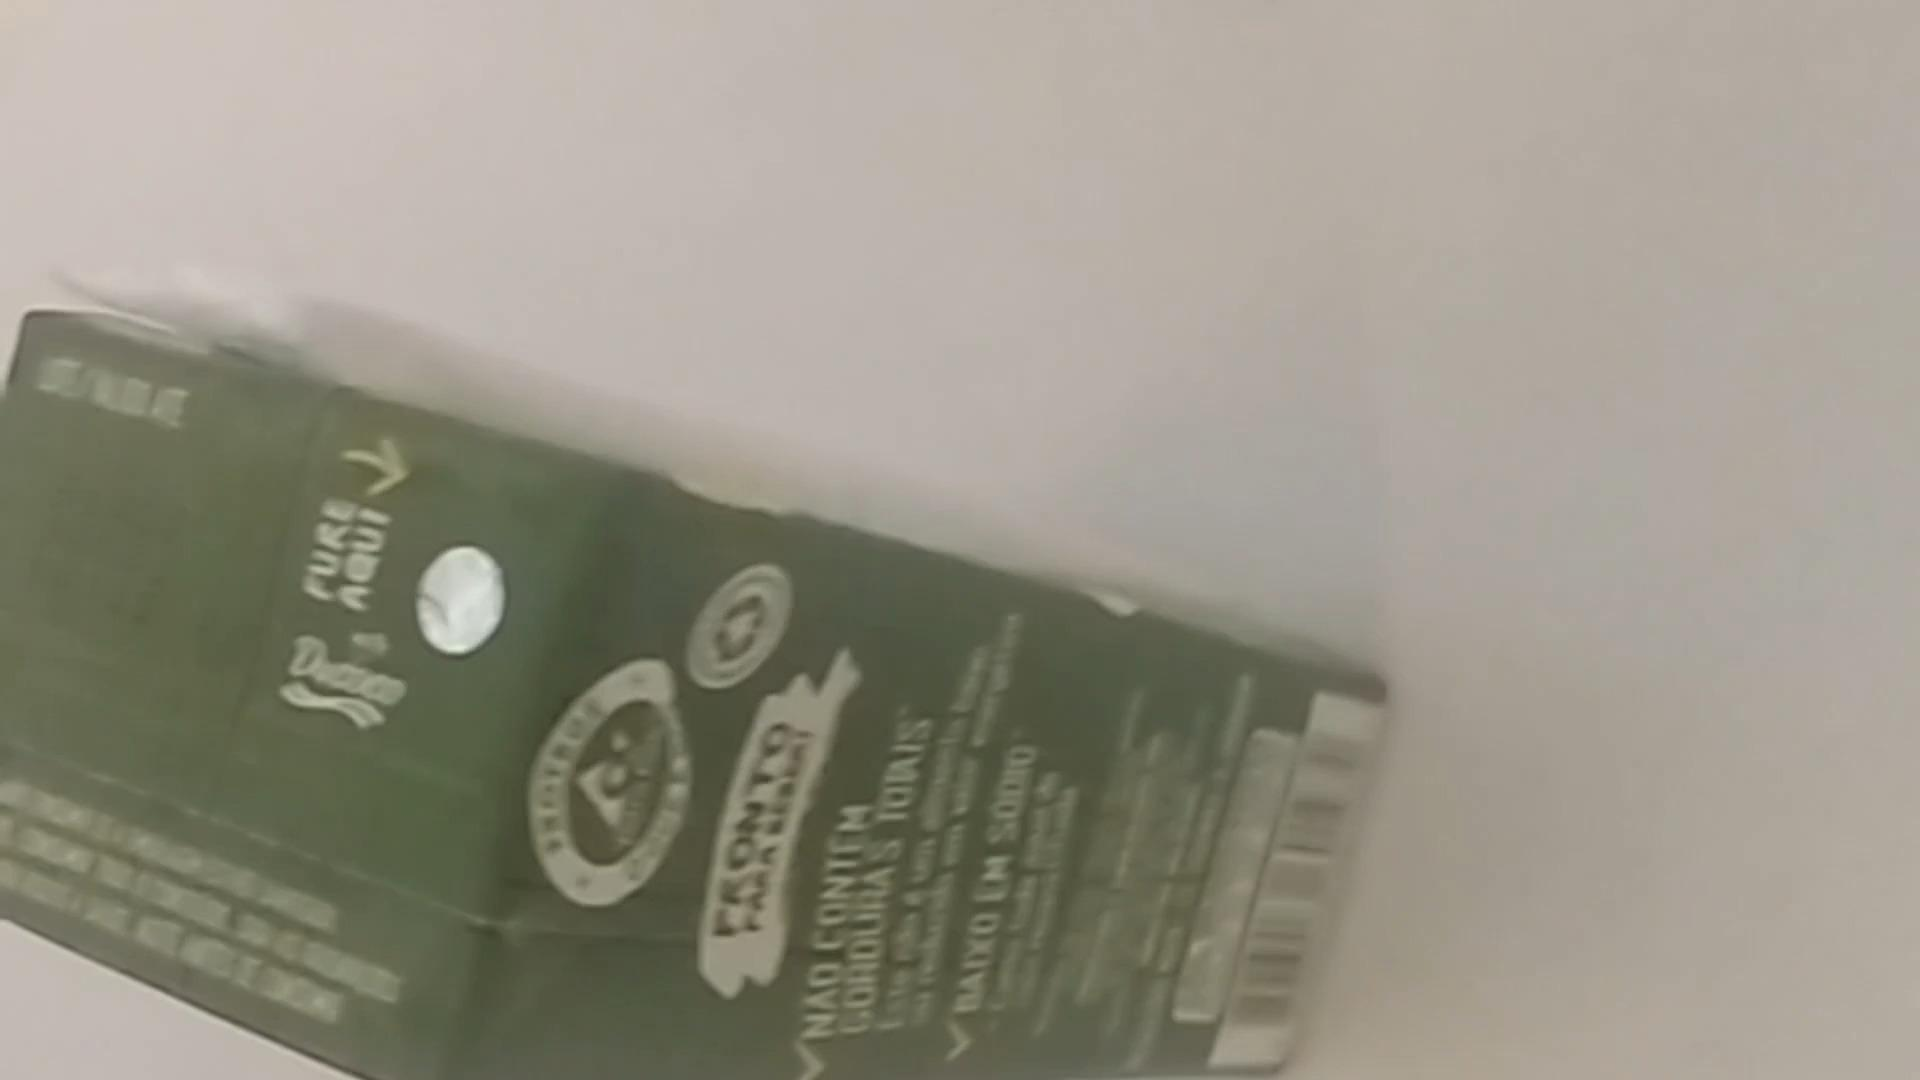coco: (15, 310, 1382, 1080)
